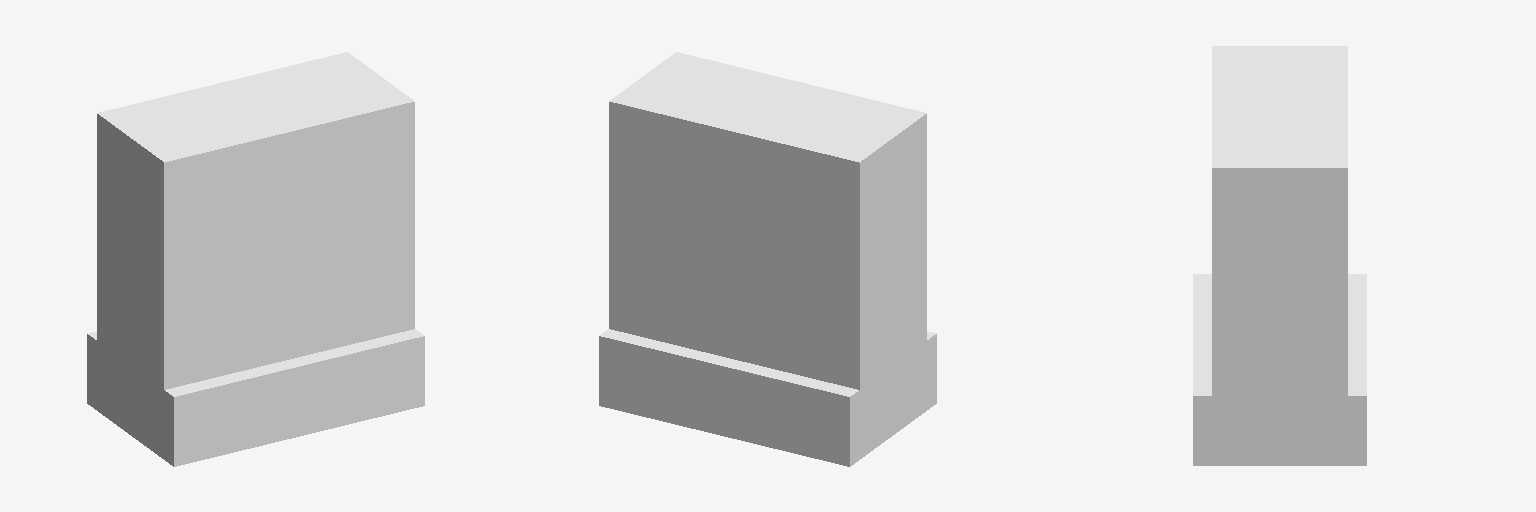
The model's file is Heroes-6.obj.
3 renders of one model, left to right at view 1: azimuth 30°, elevation 25°; view 2: azimuth 150°, elevation 25°; view 3: azimuth 270°, elevation 25°, orthographic.
Parts seen in each view (by area): view 1: object 1; view 2: object 1; view 3: object 1.
Boxes of the visible parts, x1,y1,x2,y2 form: object 1: [87, 52, 424, 466]; object 1: [599, 52, 936, 466]; object 1: [1193, 46, 1366, 465].
Bounding box in the file's own units: 1.5 × 1.7 × 0.9.